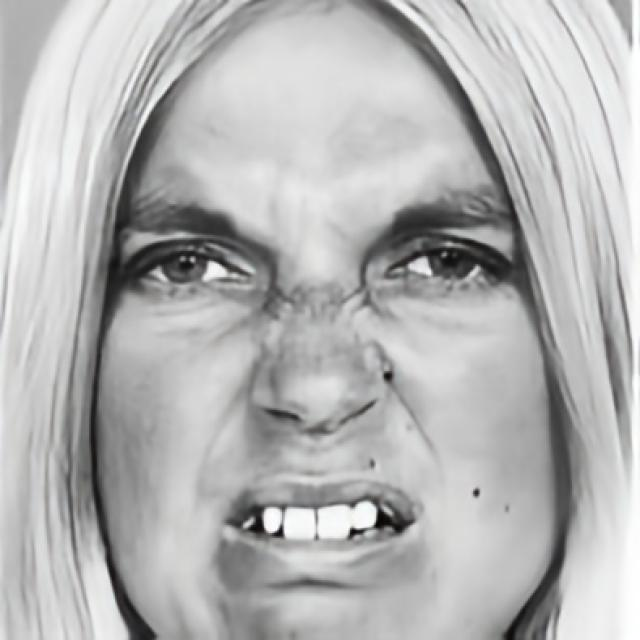disgust: (88, 1, 571, 640)
